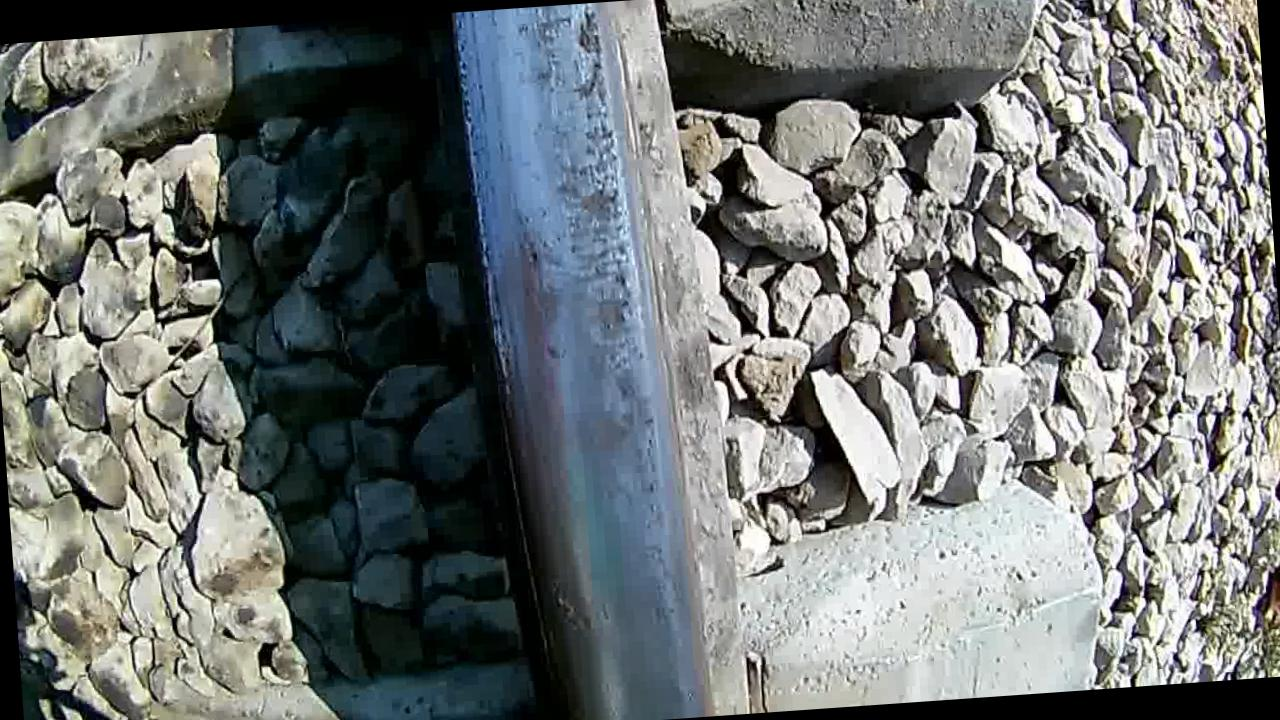crack: (458, 0, 730, 720)
